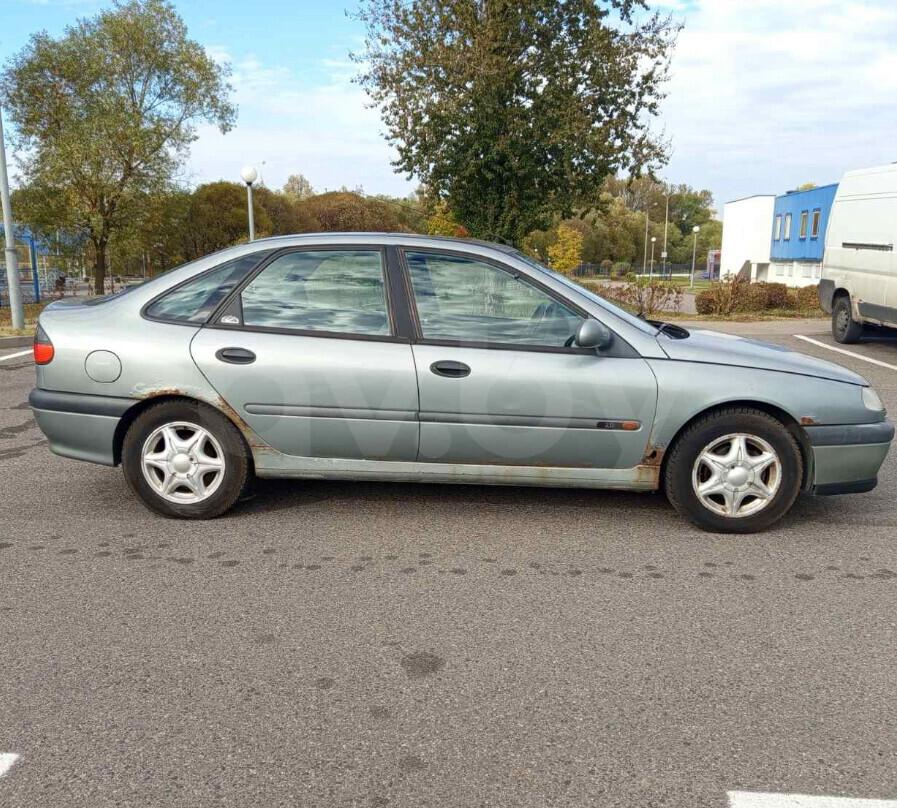Lahuna_1993-1999: (33, 227, 887, 536)
